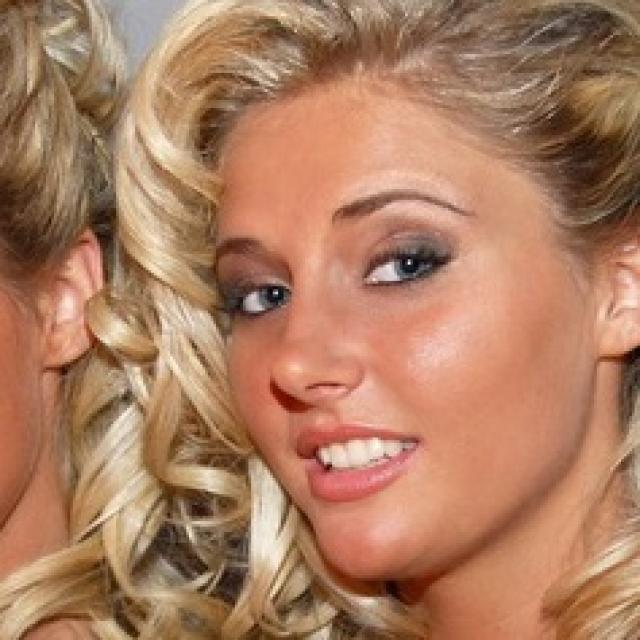Normal: (214, 78, 603, 596)
